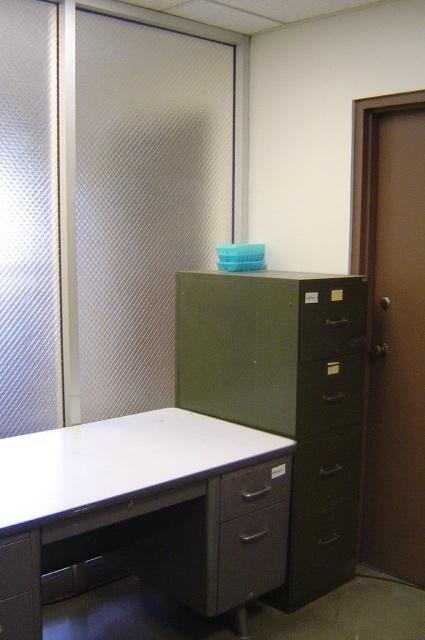Filing Cabinet: (174, 268, 367, 617)
Meja: (0, 405, 297, 639)
